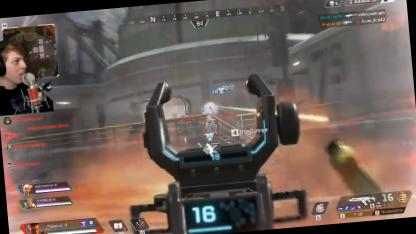Target: (204, 104, 218, 131)
